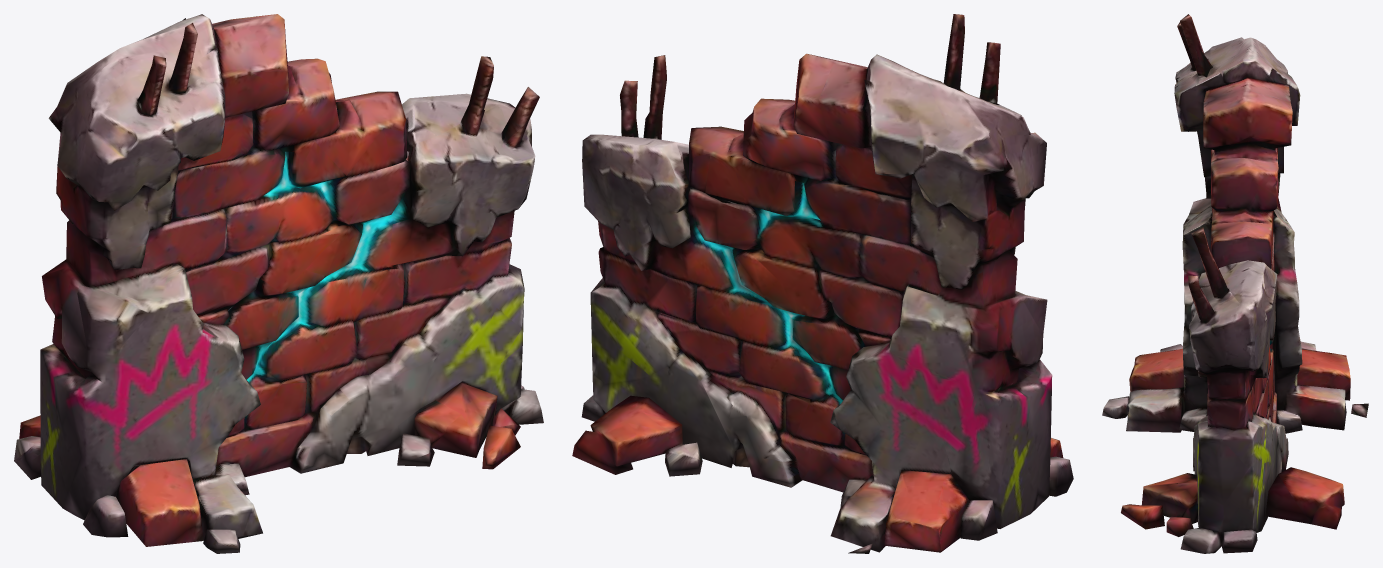
Rendered from GW_INT_crack_wall.glb.
3 views of the same model, side by side, from view 1: azimuth 30°, elevation 25°; view 2: azimuth 150°, elevation 25°; view 3: azimuth 270°, elevation 25° (orthographic). The views are drawn at different scales.
Parts seen in each view (by area): view 1: tripo_node_867ab76d-d951-4915-afe7-a5f8b13d0514; view 2: tripo_node_867ab76d-d951-4915-afe7-a5f8b13d0514; view 3: tripo_node_867ab76d-d951-4915-afe7-a5f8b13d0514.
Part boxes in pixels (left/top/right/bottom): tripo_node_867ab76d-d951-4915-afe7-a5f8b13d0514: left=14, top=14, right=543, bottom=553; tripo_node_867ab76d-d951-4915-afe7-a5f8b13d0514: left=572, top=14, right=1073, bottom=553; tripo_node_867ab76d-d951-4915-afe7-a5f8b13d0514: left=1102, top=14, right=1368, bottom=553.
Bounding box in the file's own units: 0.998 × 1 × 0.5995.
Materials: 1 (1 with a texture image).
